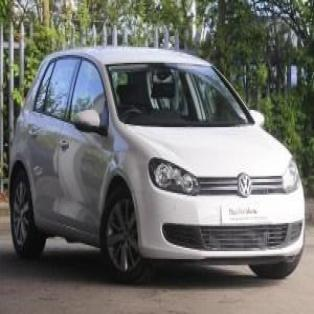Auto: (9, 49, 304, 282)
